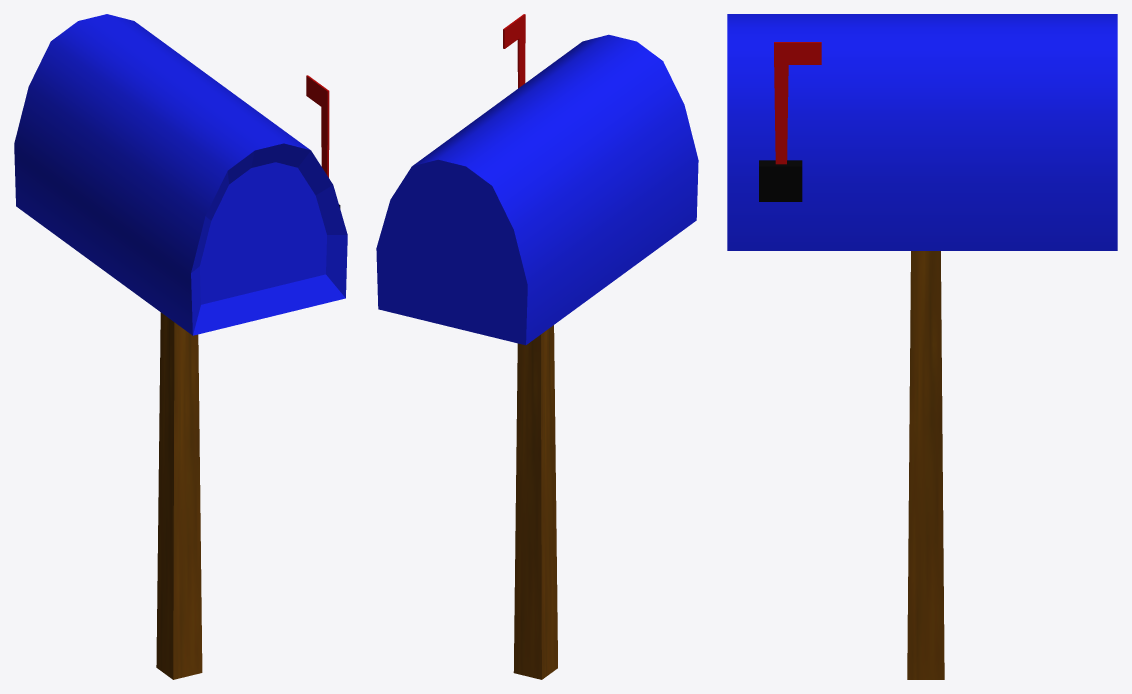
The model's file is postbox_Model.FBX.
The picture shows the model from 3 angles, left to right: view 1: azimuth 30°, elevation 25°; view 2: azimuth 150°, elevation 25°; view 3: azimuth 270°, elevation 25°; orthographic projection. The views are drawn at different scales.
Parts seen in each view (by area): view 1: postbox; view 2: postbox; view 3: postbox.
Boxes of the visible parts, <box> form: postbox: <box>14,14,347,679</box>; postbox: <box>376,14,698,679</box>; postbox: <box>727,14,1117,679</box>.
Bounding box in the file's own units: 2.16 × 7.69 × 4.04.
Materials: 1 (1 with a texture image).
